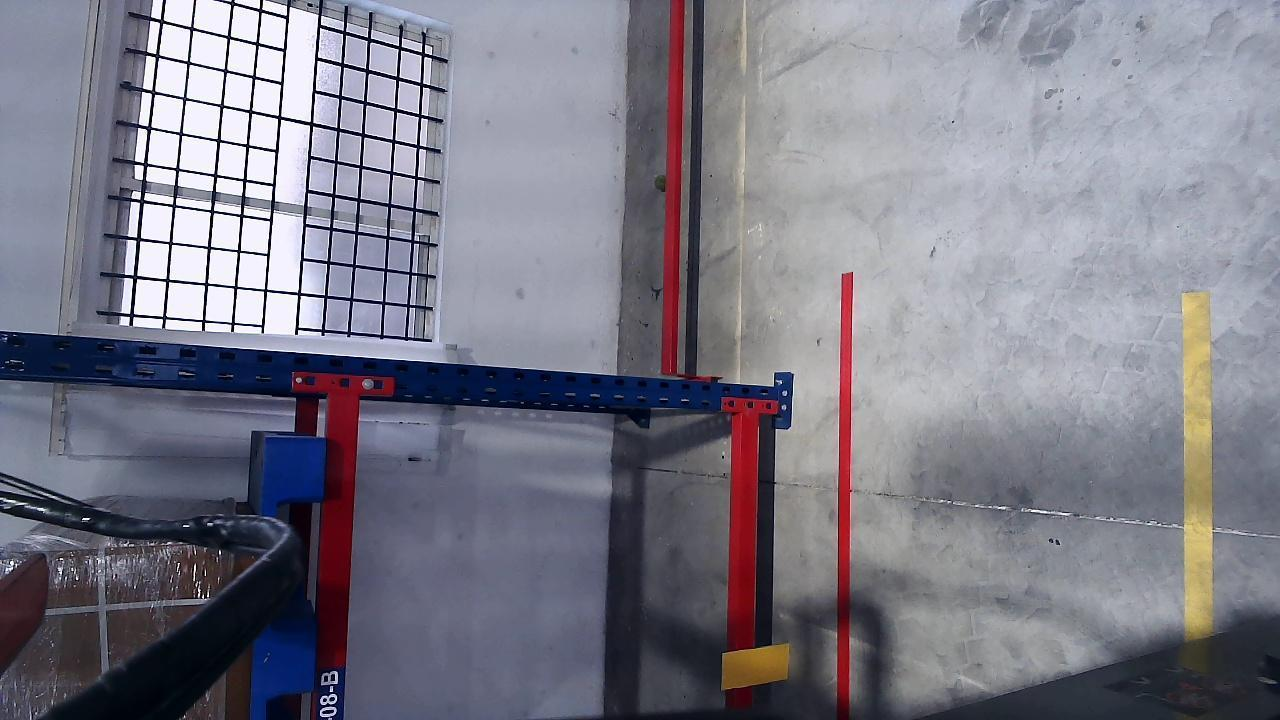red_line: (835, 273, 855, 719)
yellow_line: (1182, 298, 1215, 635)
